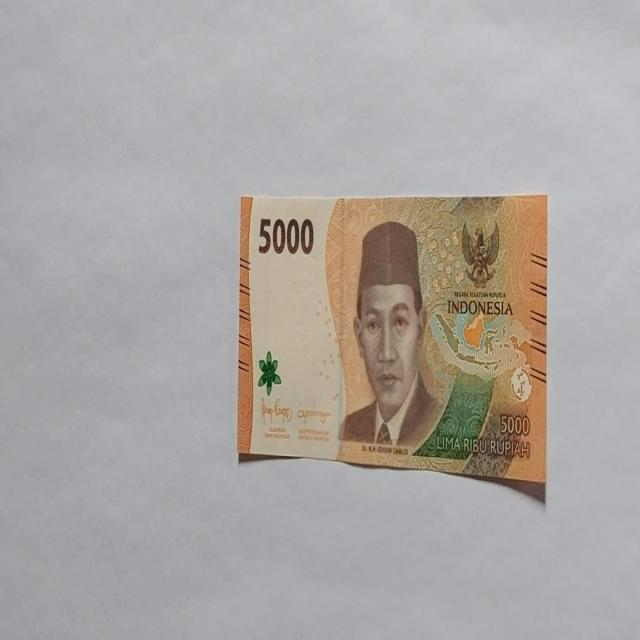lima ribu rupiah: (237, 192, 548, 500), (338, 218, 443, 452)
